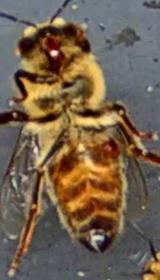varroa_mite: (86, 134, 132, 164)
